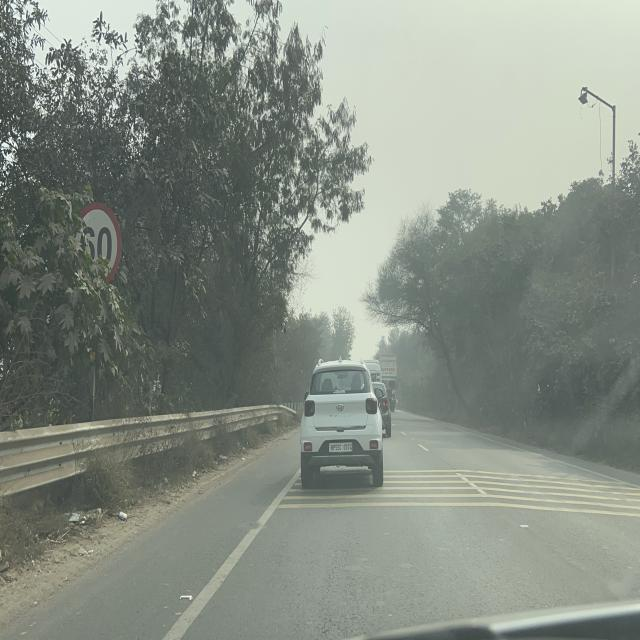SPEED_LIMIT_60: (71, 201, 123, 283)
